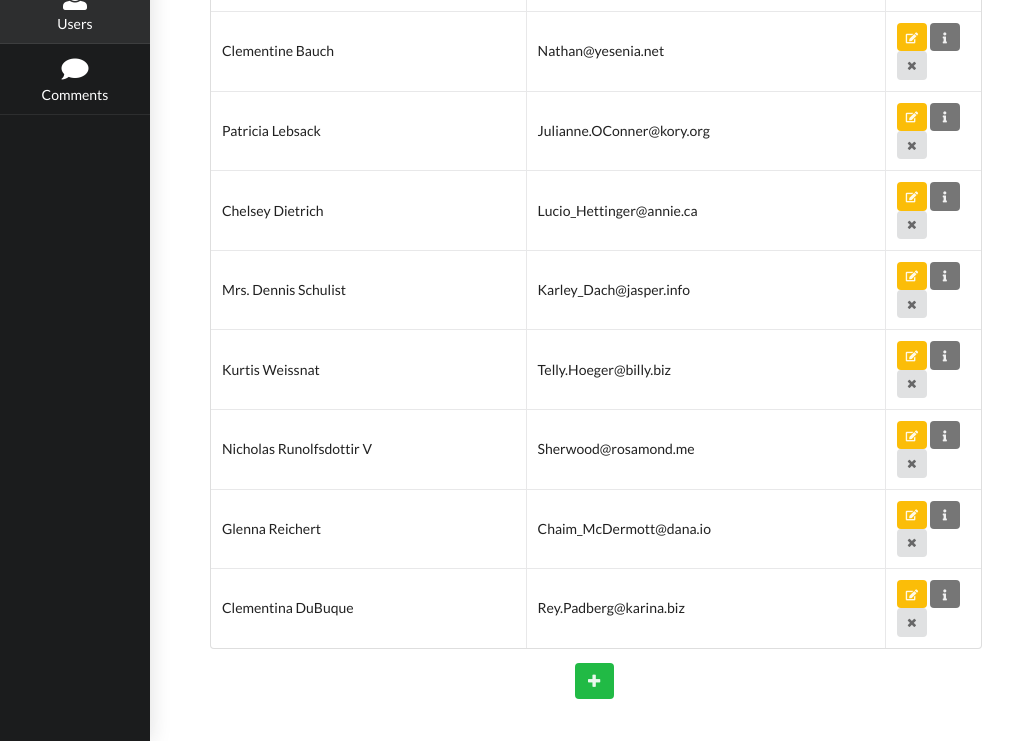
Testing User Actions Page › should add user on submit
The width and height of the screenshot is (1024, 741).
(page scrolled)
Click the button with test id "addbutton" at [594, 681], box 575,663 -> 614,699
(page scrolled)
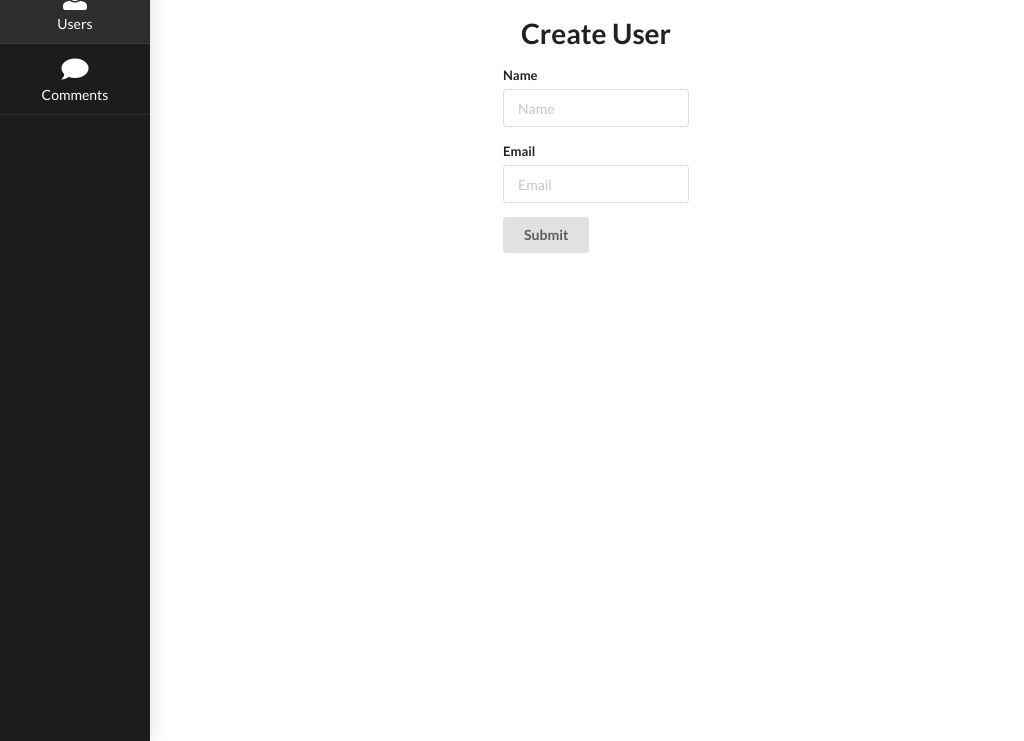
Type "john" into the field with placeholder "Name" at [596, 108], box 503,89 -> 689,127
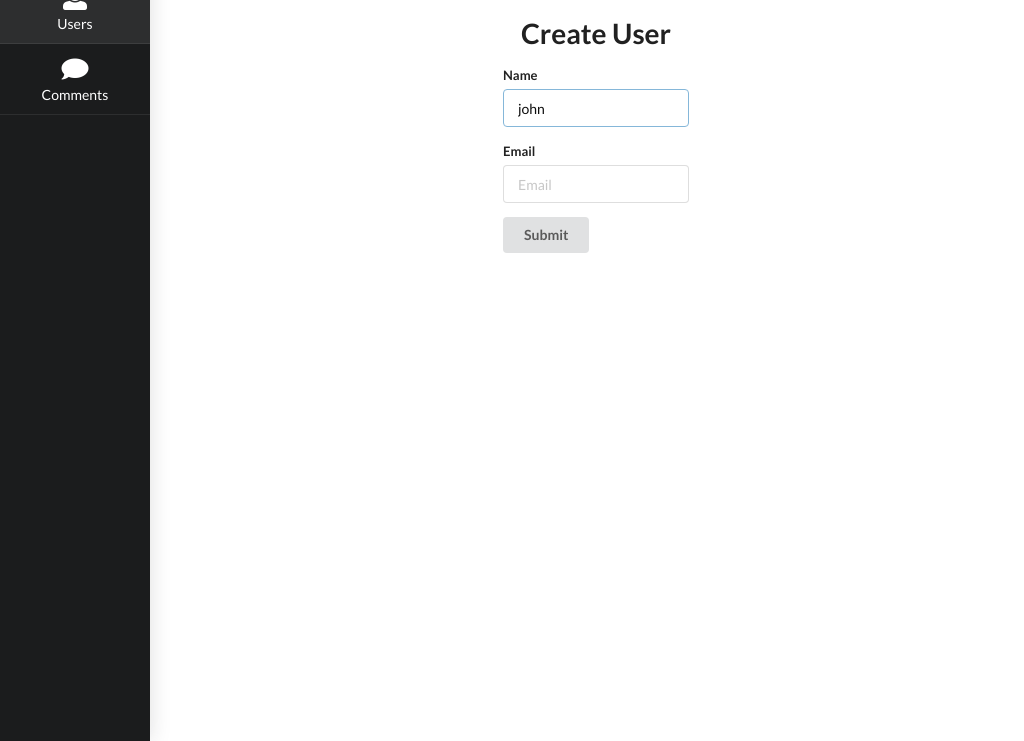
Type "doe@gmail.com" into the field with placeholder "Email" at [596, 184], box 503,165 -> 689,203
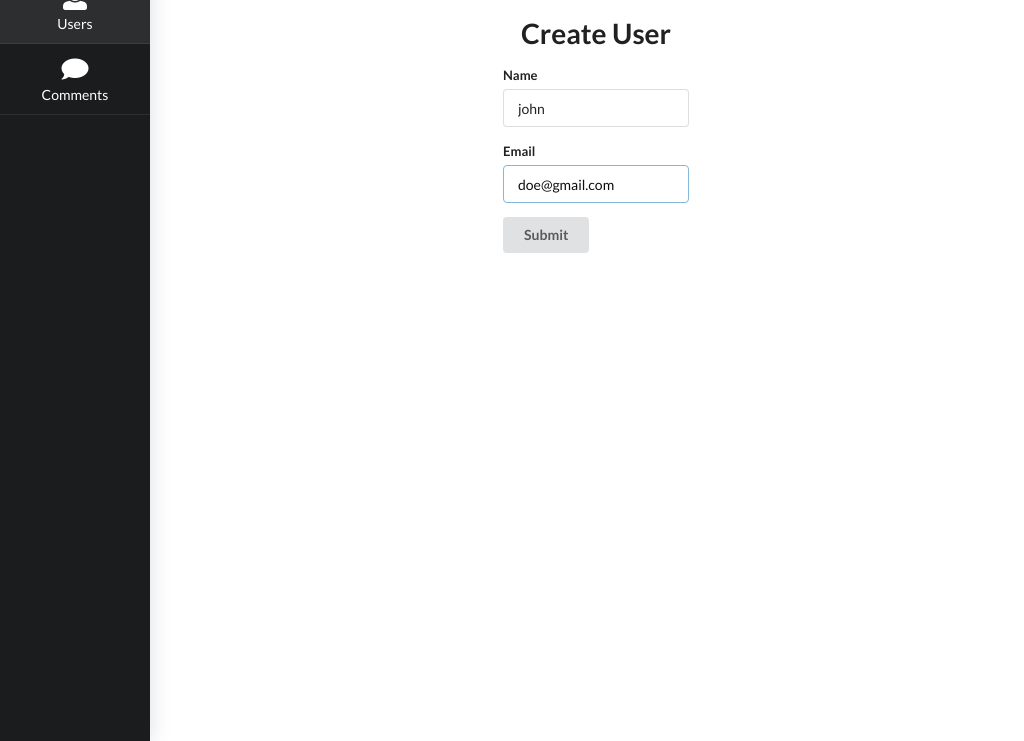
Click the button "Submit" at [546, 235], box 503,217 -> 590,253
(page scrolled)
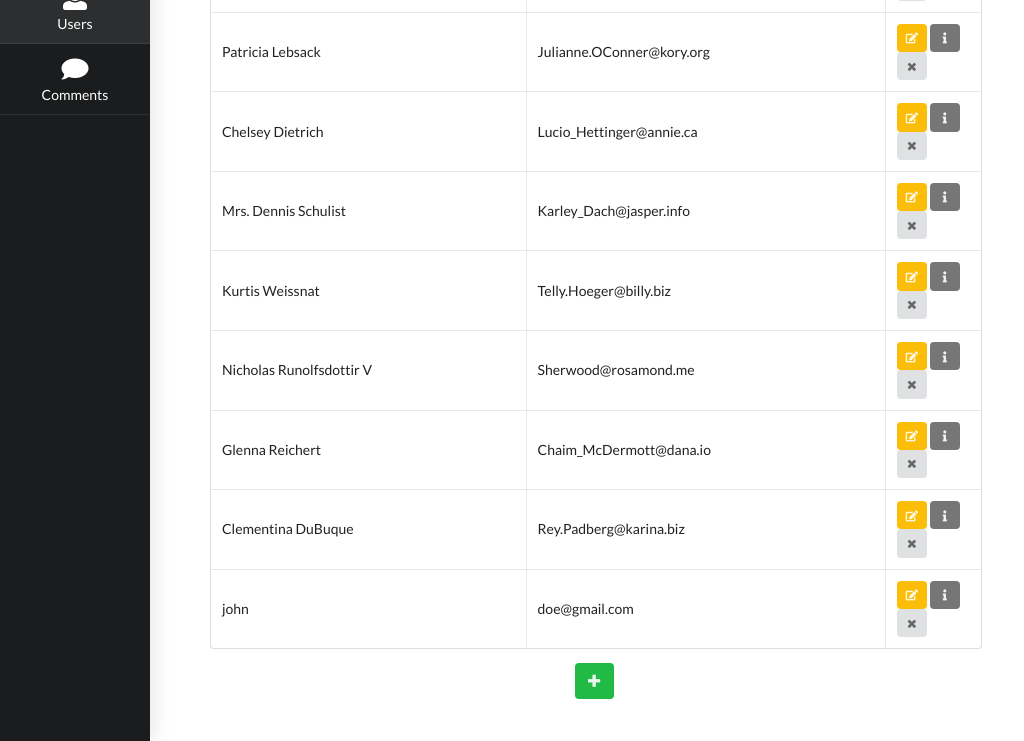
Expected: the text "john" is shown, 211,569 -> 526,648
